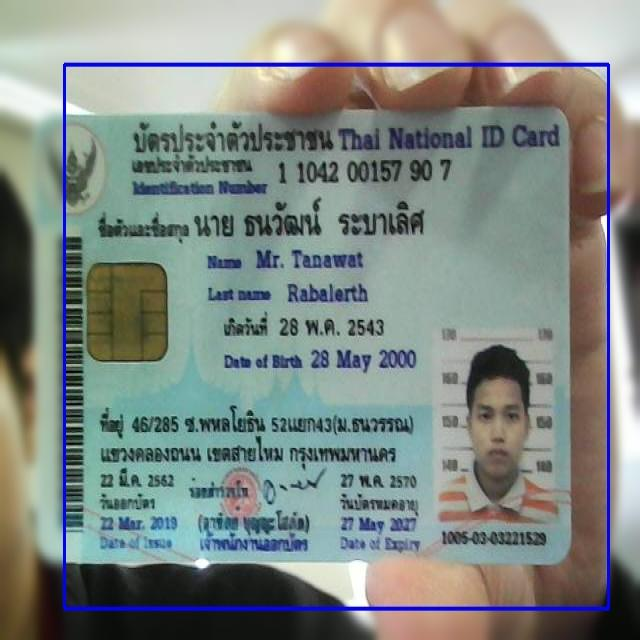Address_th: (94, 397, 420, 471)
Date_of_Birth: (304, 343, 420, 378)
Date_of_Expiry: (336, 514, 426, 540)
Date_of_Issue: (96, 510, 183, 535)
First_Name: (251, 244, 367, 270)
ID_Number: (274, 154, 456, 190)
Image: (434, 326, 557, 527)
Last_Name: (281, 277, 371, 309)
Thai_Name: (194, 196, 446, 238)
